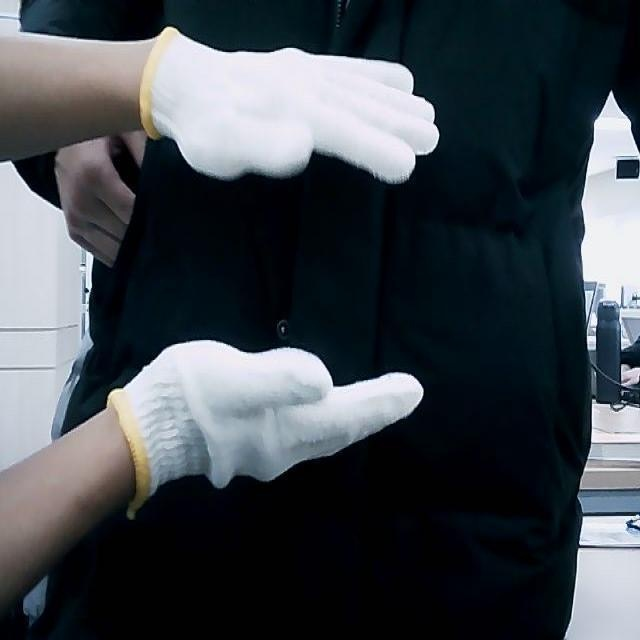Guantes: (102, 341, 426, 521), (140, 25, 442, 185)
